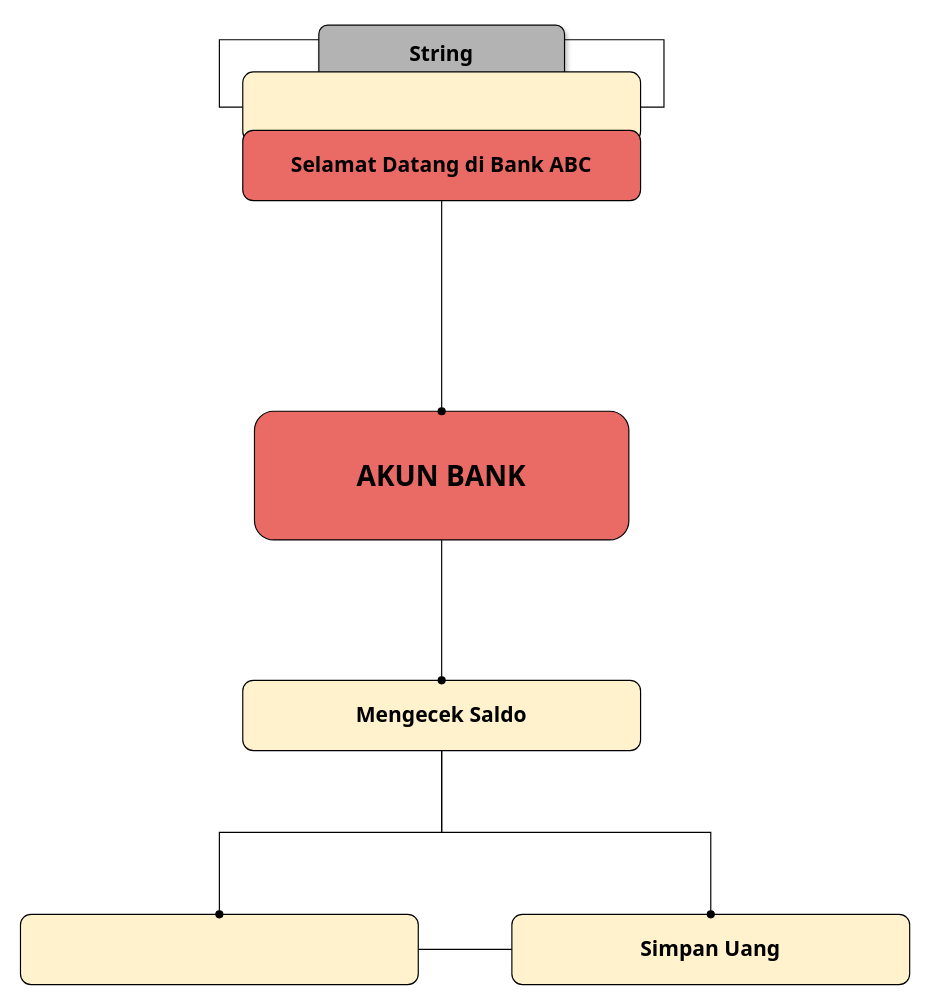
This 930x1005 diagram has some shape labels left out. Here are the shapes that lost their labels. From the top down, the centre of each, then its label:
At pixel 441 106: "Menampilkan Pesan".
At pixel 218 949: "Ambil Uang".
